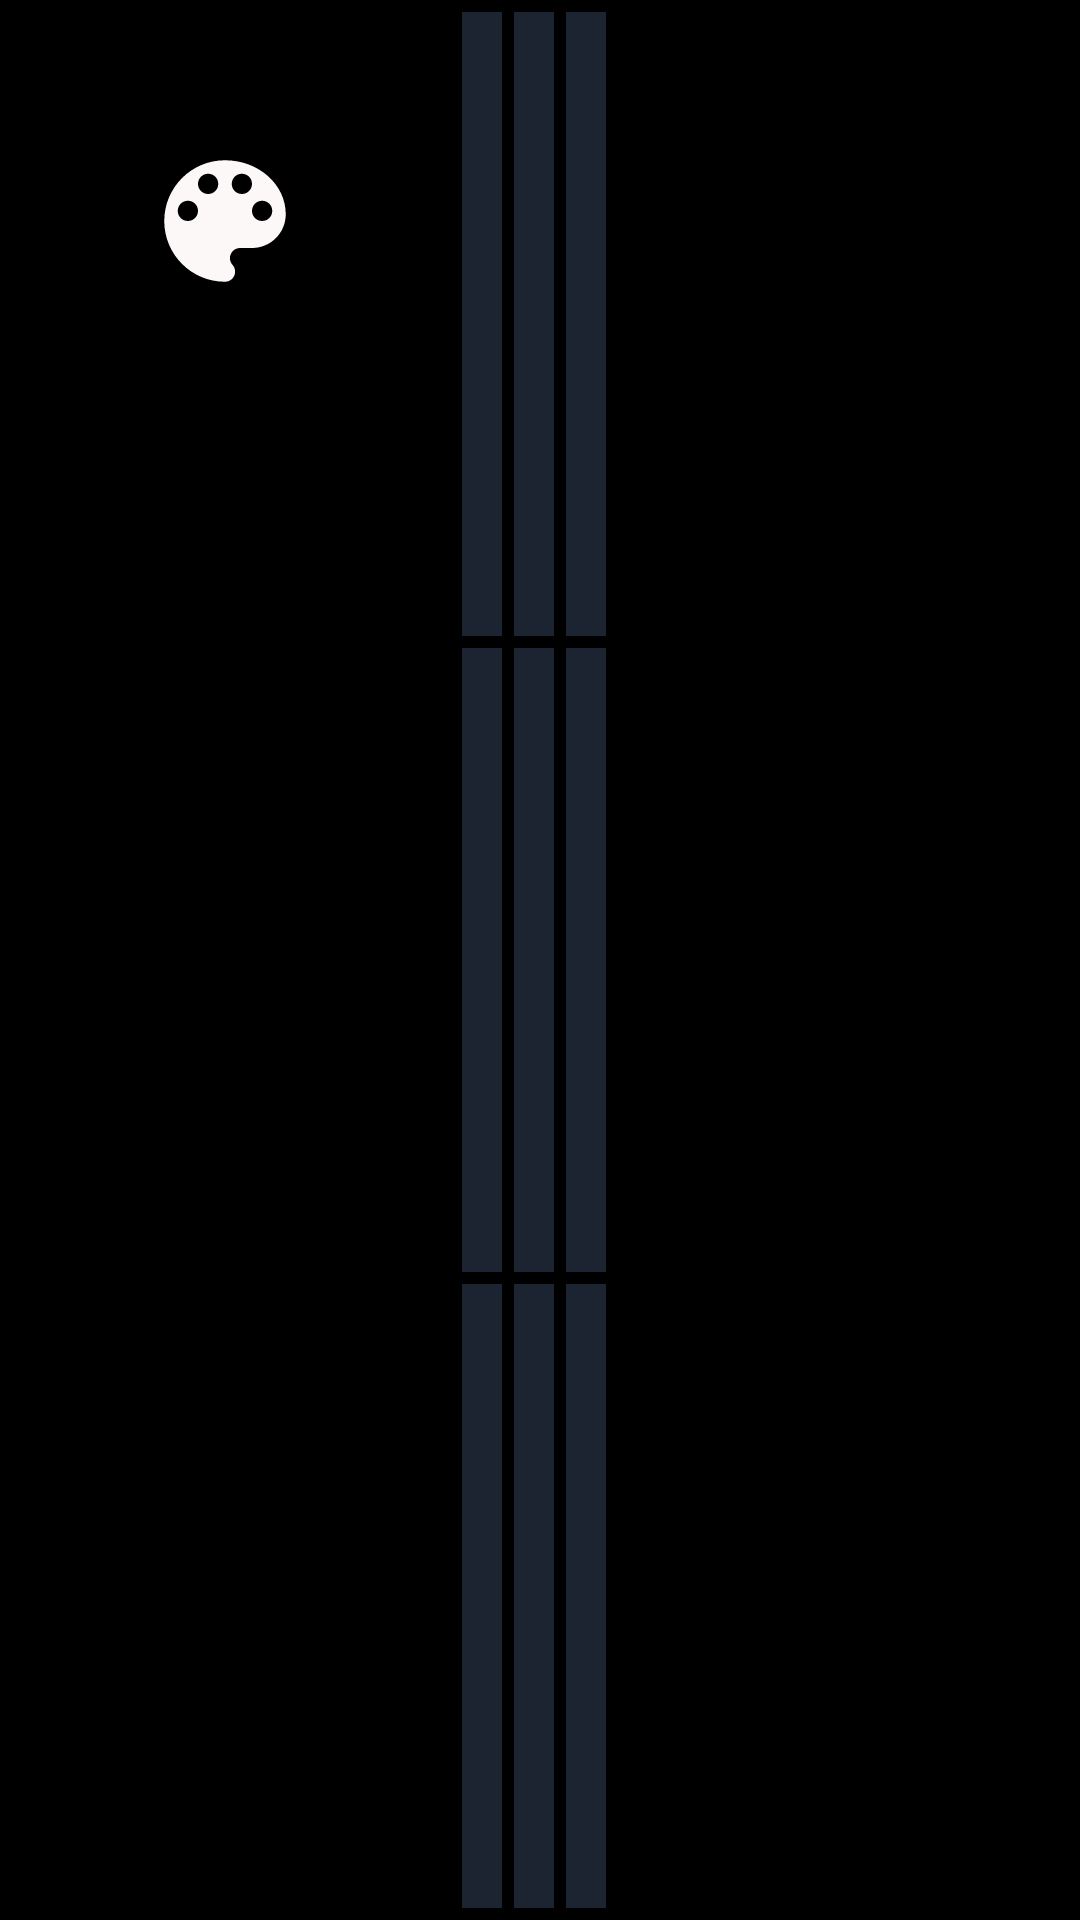

Where icons sit on this 1080 × 1920 app screen, as BBox(x1, y1, x2, y2):
Set theme button: BBox(164, 160, 286, 282)
